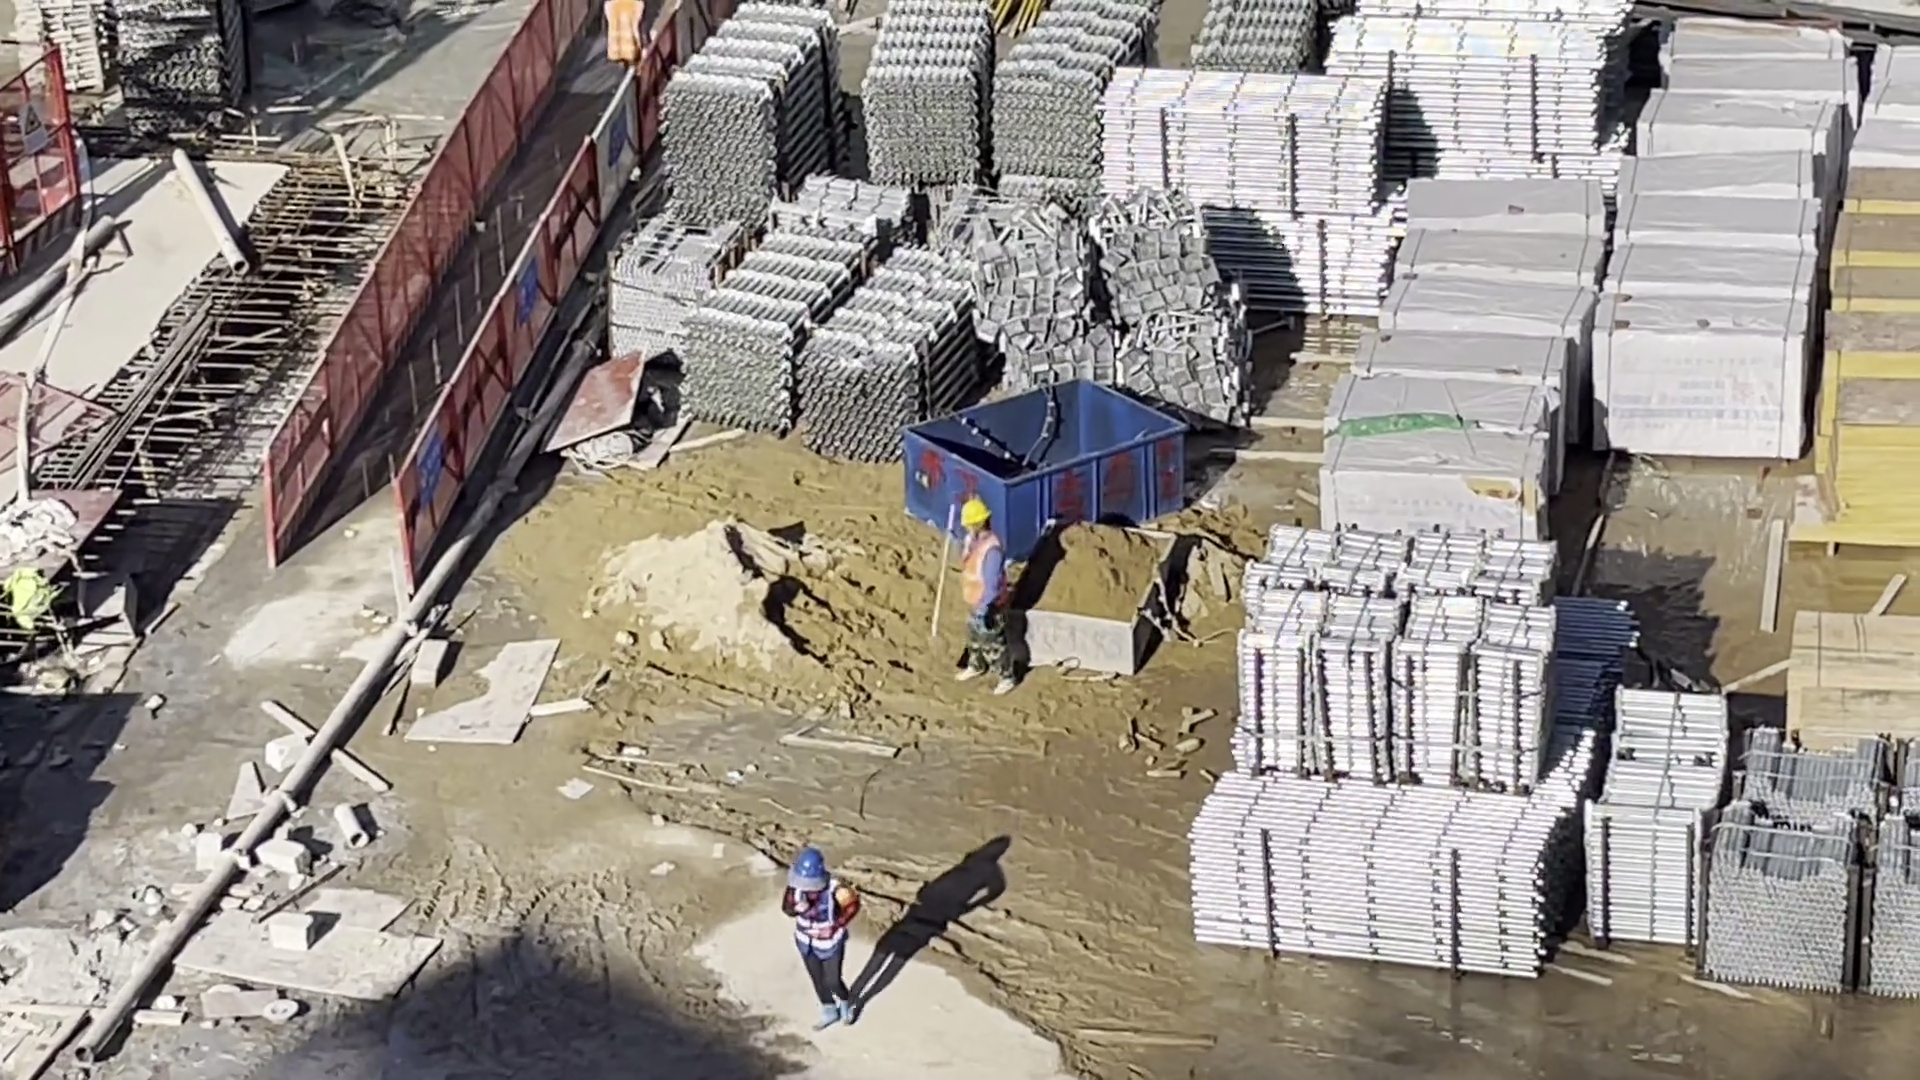board: (1821, 166, 1920, 549), (1785, 616, 1920, 740)
fence: (273, 11, 651, 564)
helmet: (793, 850, 825, 880), (961, 500, 991, 529)
hopper: (905, 381, 1183, 558), (1017, 520, 1177, 674)
person: (785, 854, 858, 1034), (956, 506, 1016, 696), (601, 3, 644, 68)
scaffold: (1236, 529, 1562, 783), (1188, 774, 1562, 981), (1096, 65, 1389, 308), (697, 226, 982, 451), (1693, 741, 1920, 993), (862, 1, 1152, 172), (1328, 14, 1617, 169), (659, 7, 840, 212), (1586, 692, 1715, 950), (115, 1, 251, 116), (1197, 3, 1324, 81), (21, 1, 108, 89)
slogan: (413, 429, 440, 501), (513, 254, 536, 323)
vest: (794, 892, 844, 960), (963, 534, 997, 619), (608, 6, 639, 64)
